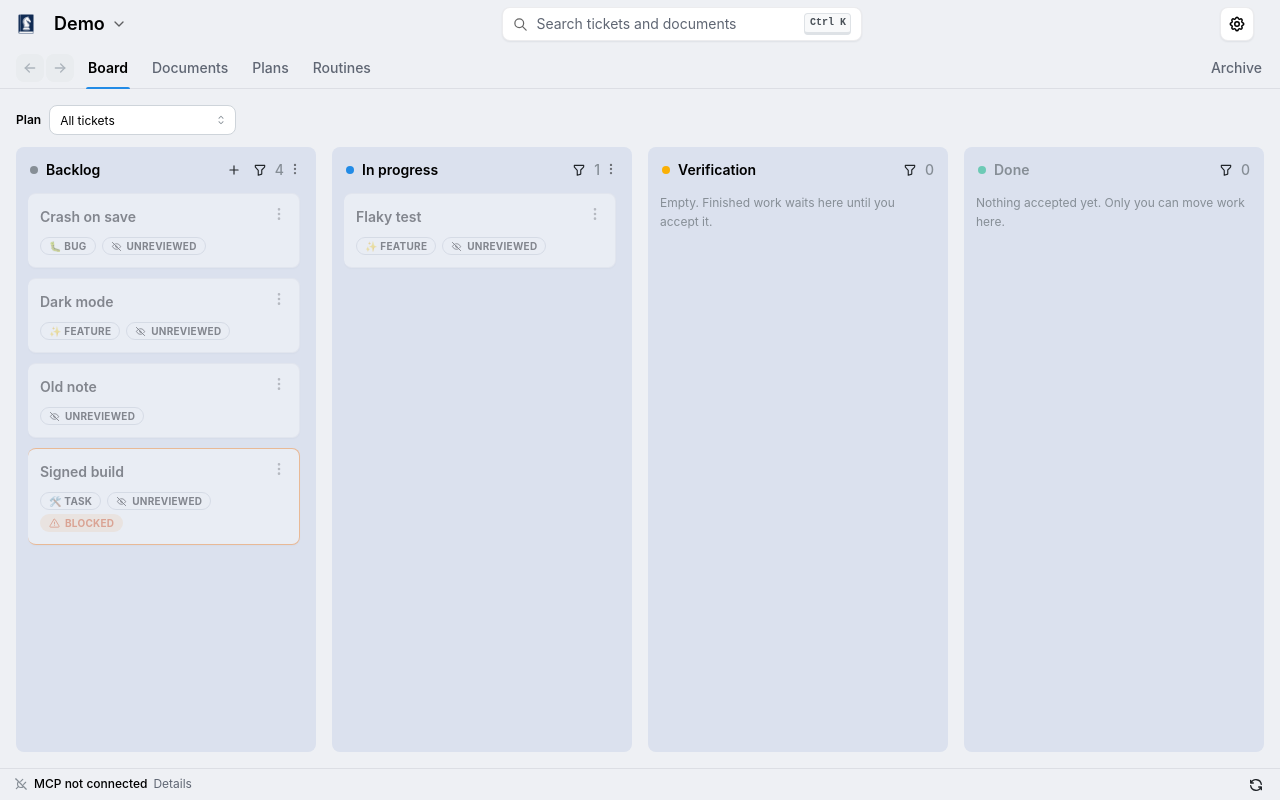
Test case: a column filter › offers readiness in Backlog only
The image size is (1280, 800).
Click the button named "Filter the In progress". click: (579, 170)
box: [568, 159, 590, 181]
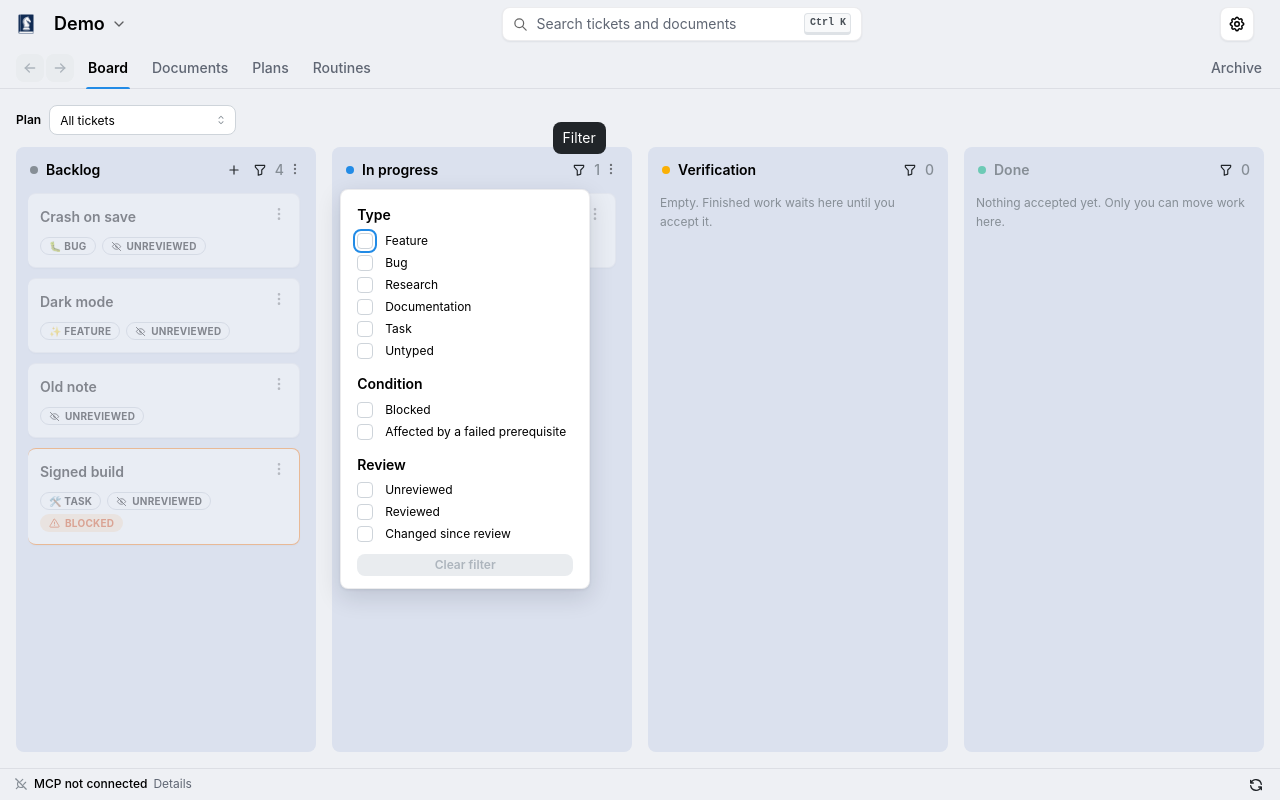
Expected: the checkbox labelled "Blocked" is shown, [357, 402, 373, 418]
